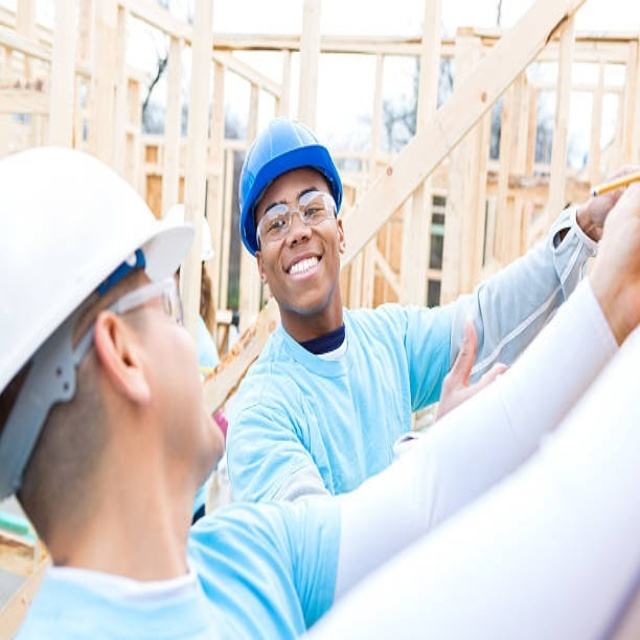Gafas: (96, 265, 183, 348), (251, 191, 339, 248)
Sin_guantes: (580, 173, 638, 347), (431, 315, 513, 422), (574, 171, 634, 244)
Sin_mascara: (166, 351, 232, 463), (281, 248, 328, 304)
